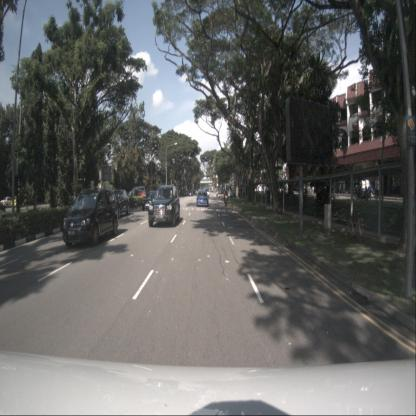human-pedestrian-adult: (388, 174, 394, 194), (381, 174, 385, 195)
vehicle-bicycle: (345, 214, 366, 243)
vehicle-car: (62, 188, 118, 247), (148, 185, 180, 227), (104, 188, 130, 218), (141, 190, 160, 212), (130, 189, 152, 207), (128, 186, 146, 200), (196, 189, 208, 207), (0, 196, 16, 208), (230, 189, 244, 198), (204, 189, 210, 198), (188, 189, 193, 196)
vehicle-motorcycle: (224, 190, 228, 206)
